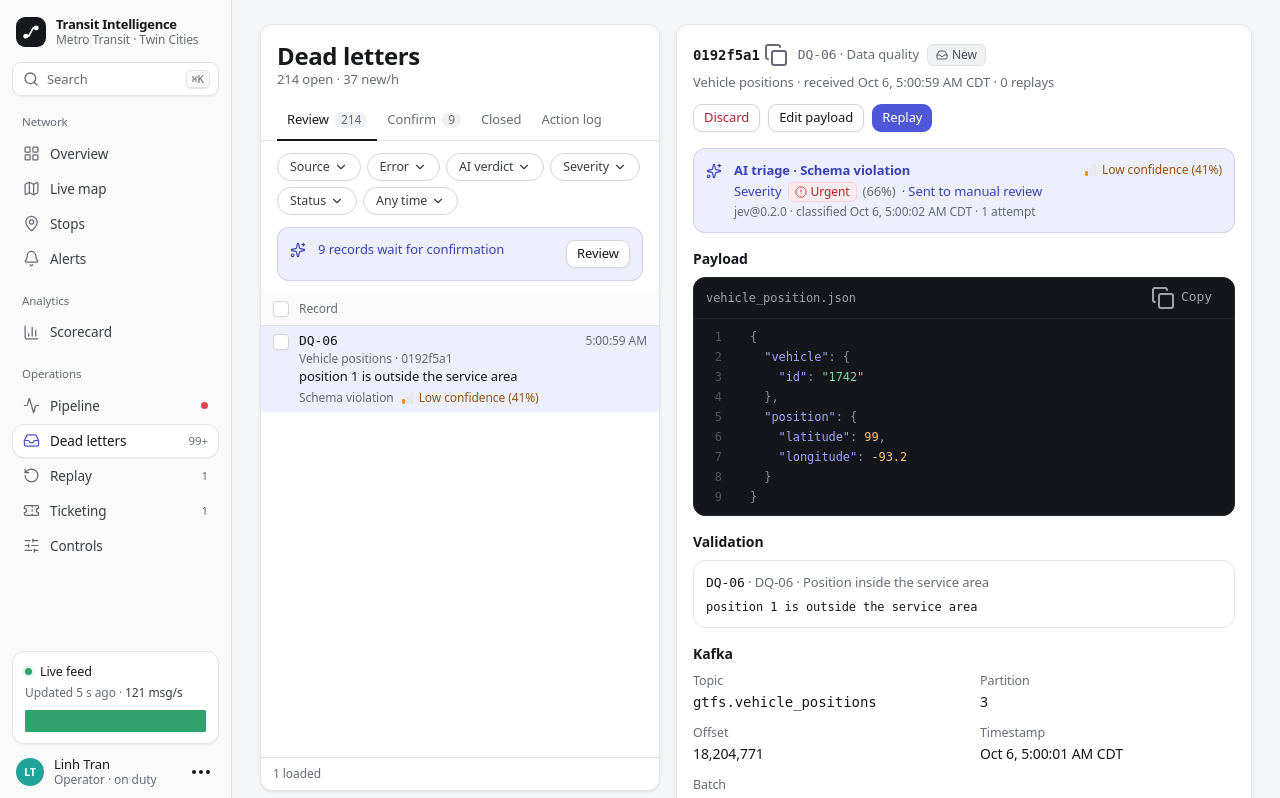
Scenario: Dead letters › as an operator › AC-2 turns the record into "Replay requested" at once, with a key, and says so
The width and height of the screenshot is (1280, 798).
What coordinates should you click on to do the following:
click the button "Replay"
I would click on:
 (902, 118)
Its box is [872, 104, 932, 132].
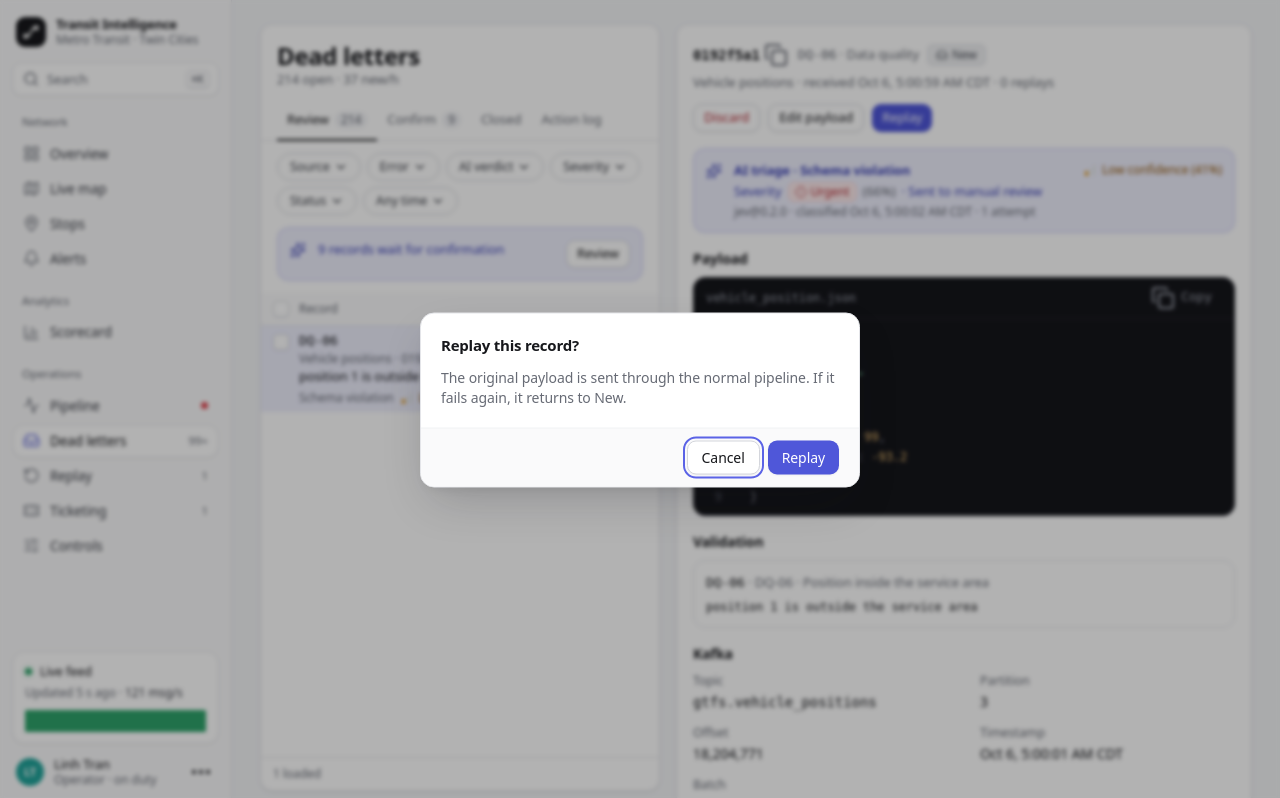
Result: the text "The original payload is sent through the normal pipeline. If it fails again, it returns to New." is shown at [441, 368, 835, 406]
What coordinates should you click on to do the following:
click the button "Replay"
I would click on:
 (803, 458)
Its box is [768, 440, 839, 474].
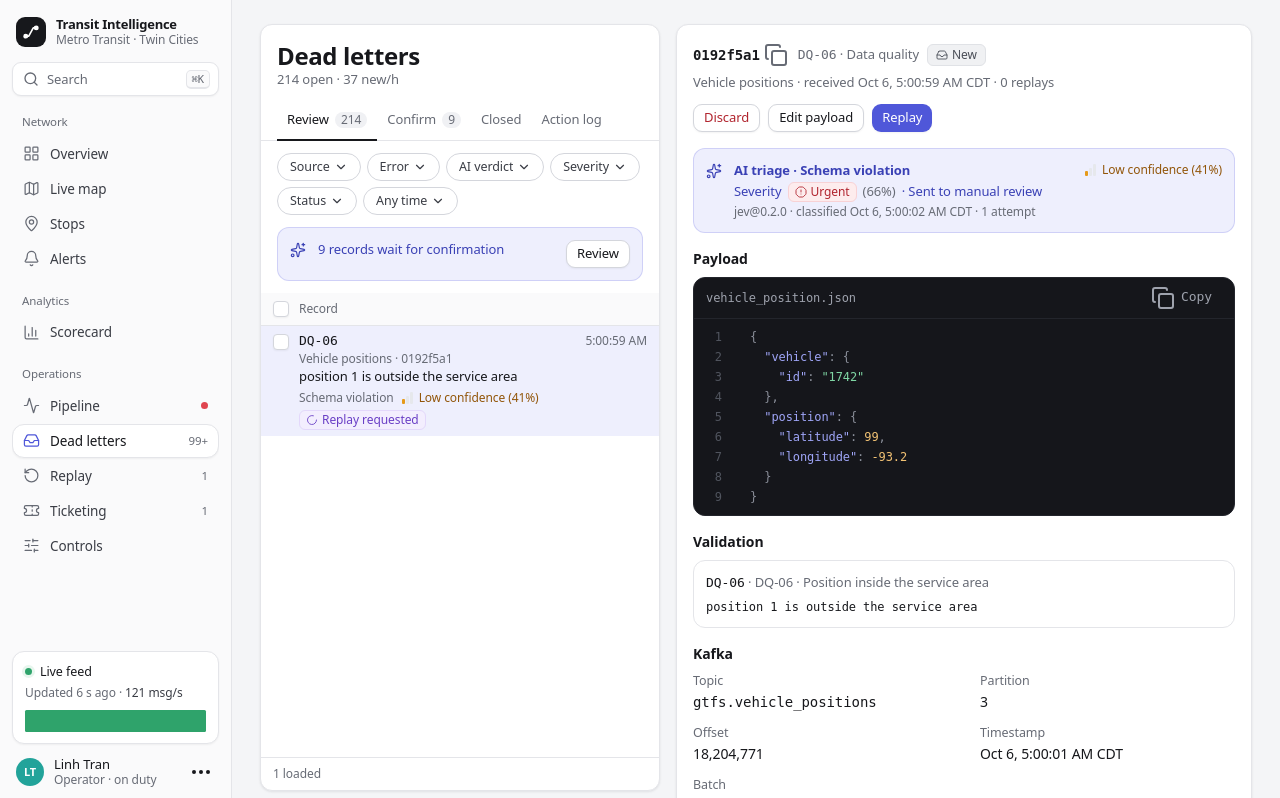
Result: the text "Replay requested" is shown at [299, 410, 426, 430]
